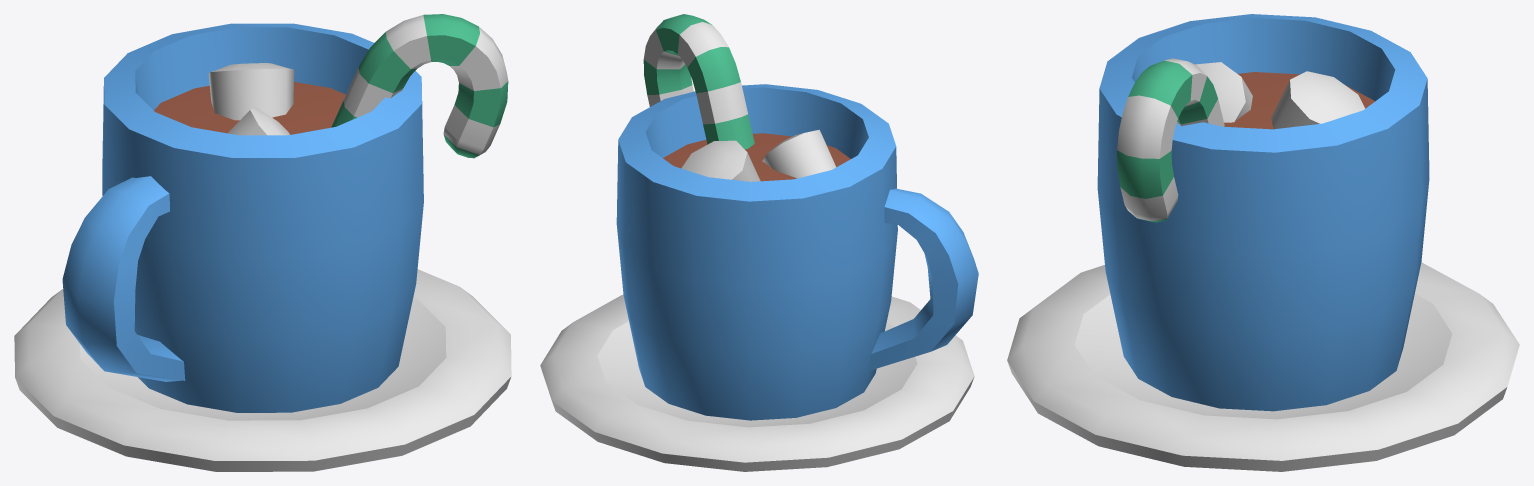
The model's file is hotChocolateB.gltf.glb.
3 renders of one model, left to right at view 1: azimuth 30°, elevation 25°; view 2: azimuth 150°, elevation 25°; view 3: azimuth 270°, elevation 25°, orthographic. The views are drawn at different scales.
Visible parts, largest first — view 1: hotChocolateB; view 2: hotChocolateB; view 3: hotChocolateB.
Part boxes in pixels (x1=…): hotChocolateB: x1=14, y1=14, x2=511, y2=471; hotChocolateB: x1=540, y1=14, x2=978, y2=471; hotChocolateB: x1=1007, y1=14, x2=1519, y2=471.
Bounding box in the file's own units: 0.5596 × 0.4773 × 0.5559.
